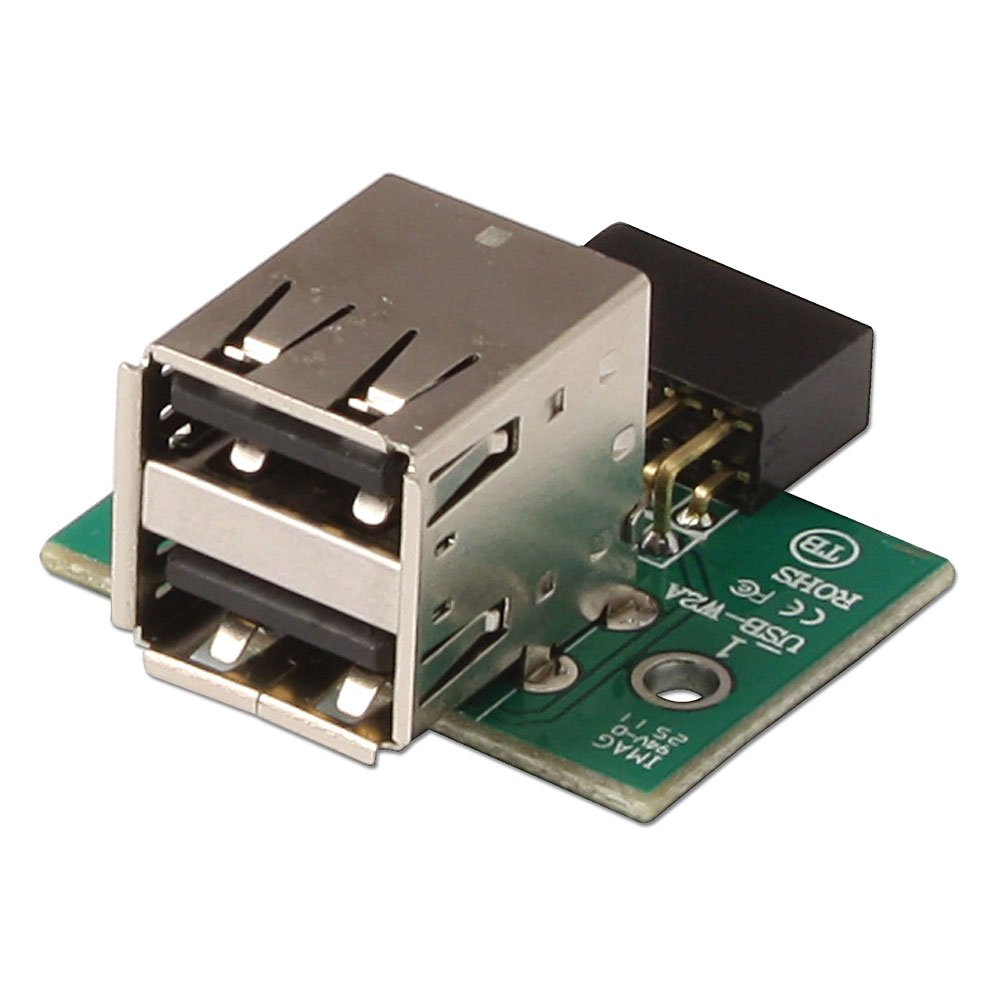USB: (105, 344, 440, 587)
